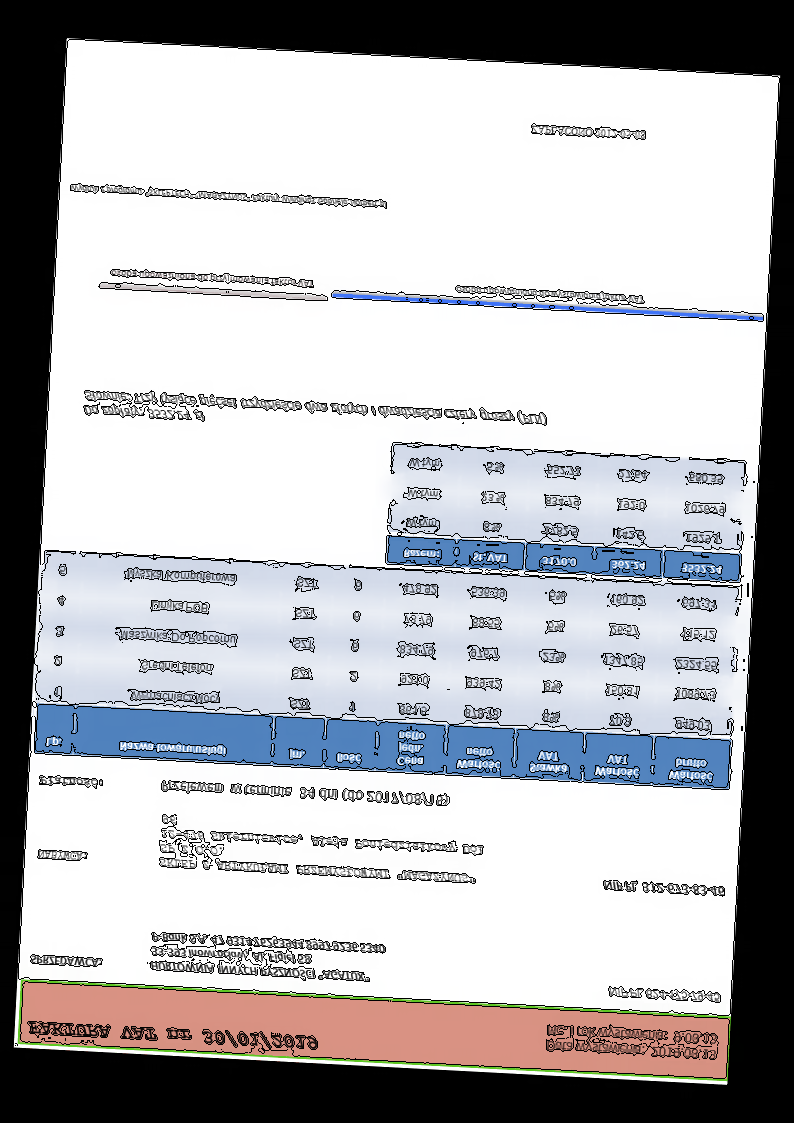Table: (33, 549, 741, 791), (385, 443, 747, 584), (81, 386, 548, 443)
TextBox: (155, 812, 488, 887), (147, 929, 387, 985), (25, 1017, 319, 1054), (67, 181, 389, 212), (159, 778, 450, 809), (542, 1023, 719, 1064), (107, 267, 315, 290), (453, 283, 646, 306), (600, 877, 727, 899), (606, 984, 722, 1005), (529, 124, 647, 142), (28, 952, 103, 970), (37, 773, 105, 792), (34, 848, 90, 864)
